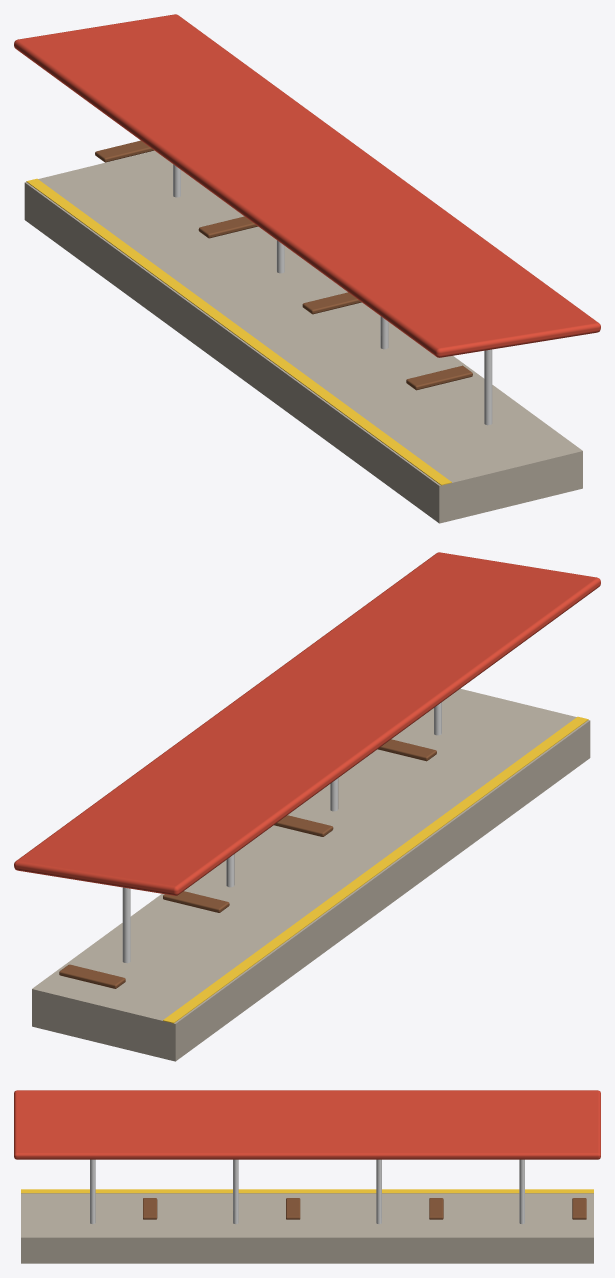
Rendered from station.glb.
3 renders of one model, top to bottom at view 1: azimuth 30°, elevation 25°; view 2: azimuth 150°, elevation 25°; view 3: azimuth 270°, elevation 25°, orthographic. The views are drawn at different scales.
Visible parts, largest first — view 1: station; view 2: station; view 3: station.
Boxes of the visible parts, x1,y1,x2,y2 form: station: (14,14,600,523); station: (14,552,600,1061); station: (14,1090,600,1263).
Size of the model in its own units: 4.59 by 4.75 by 20.5.
